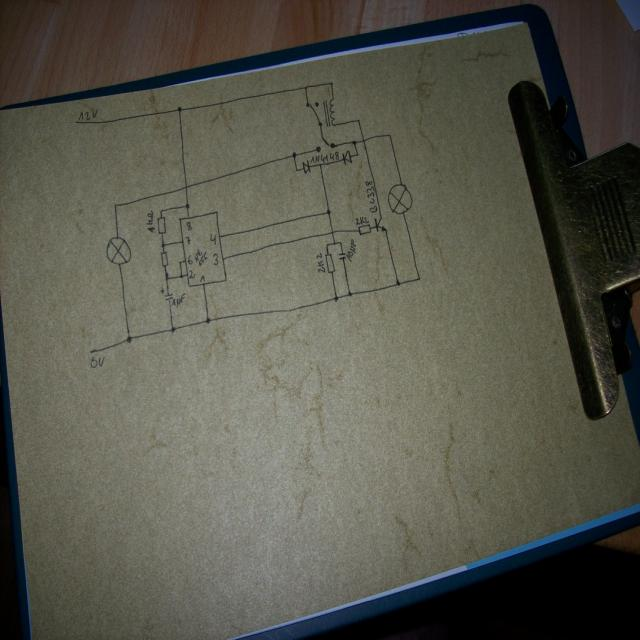capacitor: (160, 286, 173, 301), (338, 250, 346, 260)
crossover: (183, 183, 189, 189), (361, 138, 366, 144), (330, 229, 334, 235)
diode: (341, 149, 352, 165), (302, 159, 311, 174)
junction: (126, 334, 132, 344), (205, 316, 211, 324), (164, 271, 169, 280), (184, 202, 190, 209), (325, 208, 331, 215), (176, 106, 182, 112), (395, 279, 400, 286), (333, 295, 338, 302), (347, 290, 352, 297), (170, 326, 175, 333), (292, 150, 296, 158), (351, 139, 356, 145), (416, 276, 421, 282), (160, 242, 165, 247), (388, 132, 392, 138), (114, 202, 118, 208), (159, 208, 163, 214), (304, 85, 308, 90), (329, 81, 333, 86), (318, 162, 322, 167), (179, 273, 183, 278), (356, 118, 360, 122), (355, 152, 359, 156), (332, 241, 336, 245), (338, 240, 342, 244), (178, 260, 182, 264), (295, 167, 298, 172), (325, 243, 328, 248)
resistor: (324, 252, 336, 273), (157, 215, 166, 234), (358, 223, 371, 234), (160, 251, 168, 267)
switch: (315, 134, 335, 152)
terminal: (88, 348, 93, 354), (73, 120, 78, 126)
text: (364, 180, 378, 212), (310, 151, 339, 163), (78, 108, 98, 121), (346, 238, 356, 262), (194, 248, 207, 266), (315, 251, 325, 273), (146, 209, 155, 233), (172, 293, 185, 307), (90, 356, 105, 368), (355, 216, 369, 224), (210, 233, 216, 245), (212, 253, 218, 265), (188, 269, 195, 279), (187, 254, 193, 264), (186, 221, 192, 230), (184, 236, 190, 244), (200, 274, 204, 282)
transistor: (374, 216, 387, 232)
